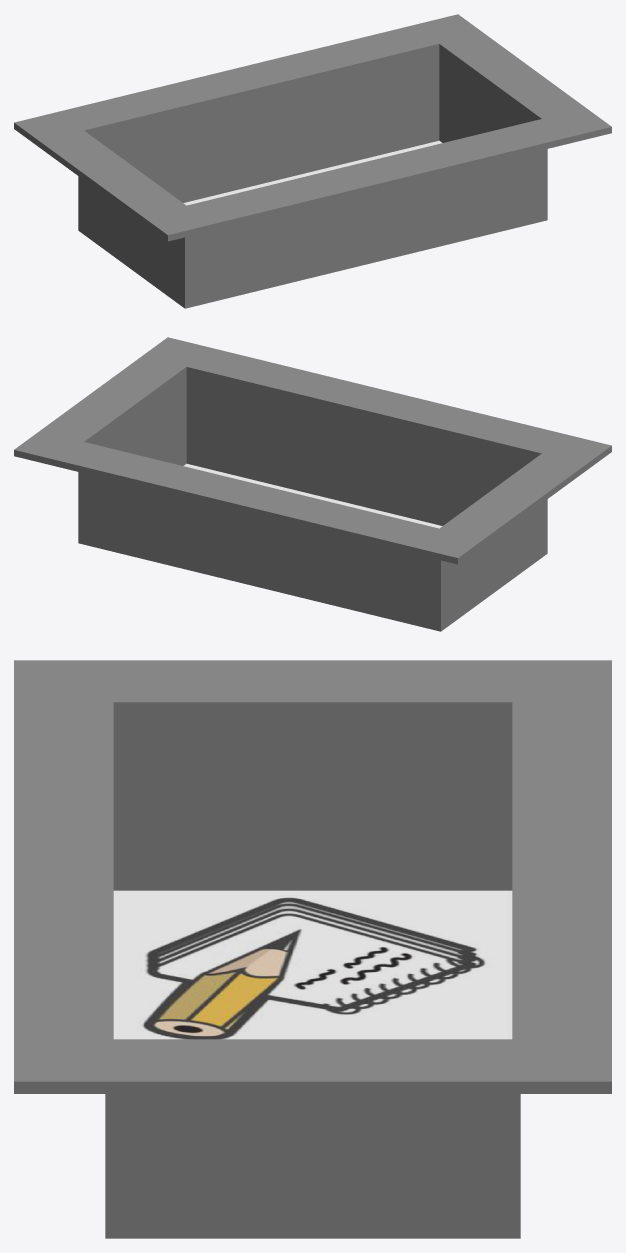
The model's file is bin_gman.dae.
3 views of the same model, one above another, from view 1: azimuth 30°, elevation 25°; view 2: azimuth 150°, elevation 25°; view 3: azimuth 270°, elevation 25° (orthographic). The views are drawn at different scales.
Visible parts, largest first — view 1: bin; view 2: bin; view 3: bin.
Part boxes in pixels (bbox=[...]): bin: bbox=[14, 14, 611, 308]; bin: bbox=[14, 337, 611, 631]; bin: bbox=[14, 660, 611, 1238].
Size of the model in its own units: 0.762 by 0.4572 by 0.1651.
Materials: 2 (1 with a texture image).
